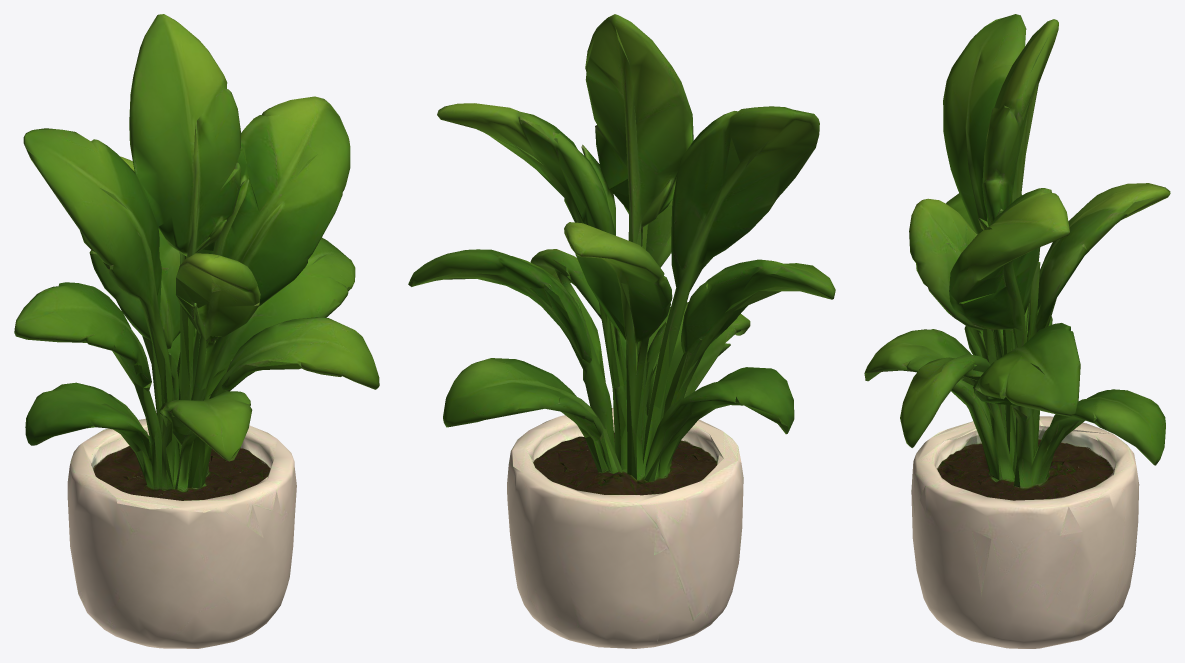
Rendered from monstera.gltf.
3 views of the same model, side by side, from view 1: azimuth 30°, elevation 25°; view 2: azimuth 150°, elevation 25°; view 3: azimuth 270°, elevation 25° (orthographic). The views are drawn at different scales.
Visible parts, largest first — view 1: monstera; view 2: monstera; view 3: monstera.
Boxes of the visible parts, <box> form: monstera: <box>14,14,379,648</box>; monstera: <box>408,14,835,648</box>; monstera: <box>864,14,1170,648</box>.
Bounding box in the file's own units: 1.3 × 1.99 × 0.9286.
Materials: 1 (1 with a texture image).
